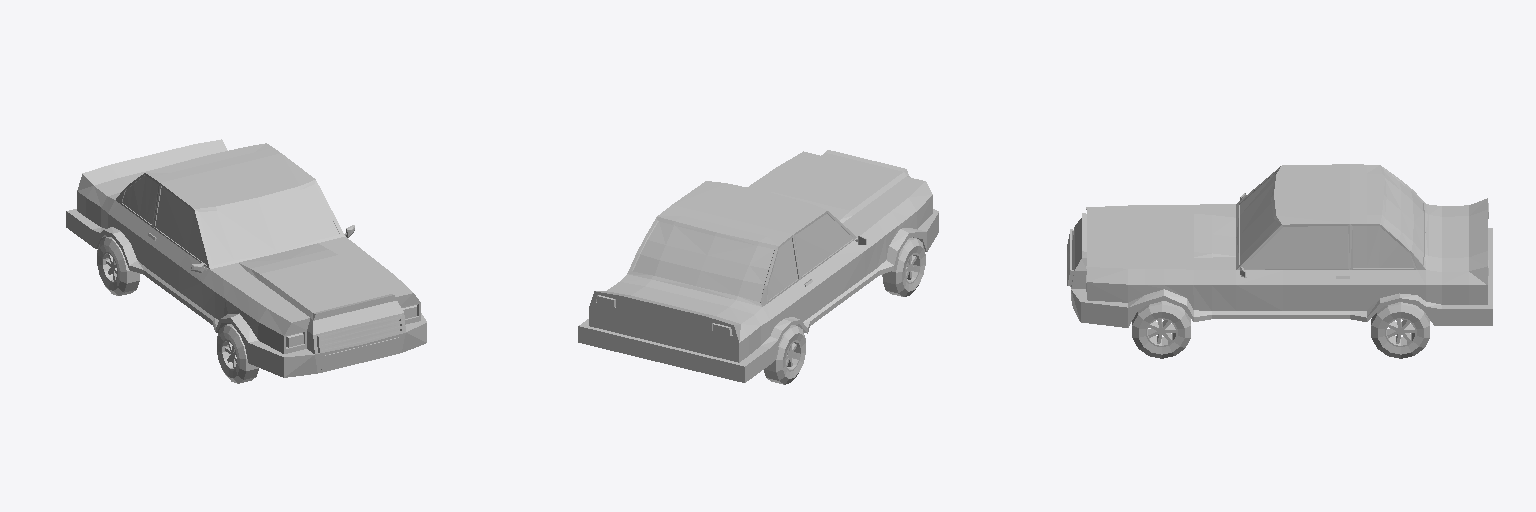
File: car_02.obj
3 views of the same model, side by side, from view 1: azimuth 30°, elevation 25°; view 2: azimuth 150°, elevation 25°; view 3: azimuth 270°, elevation 25° (orthographic).
Visible parts, largest first — view 1: car_Cube.001; view 2: car_Cube.001; view 3: car_Cube.001.
Boxes of the visible parts, x1=… form: car_Cube.001: x1=66, y1=139, x2=426, y2=383; car_Cube.001: x1=578, y1=150, x2=938, y2=384; car_Cube.001: x1=1067, y1=164, x2=1492, y2=358.
Size of the model in its own units: 1.49 by 1.02 by 3.16.